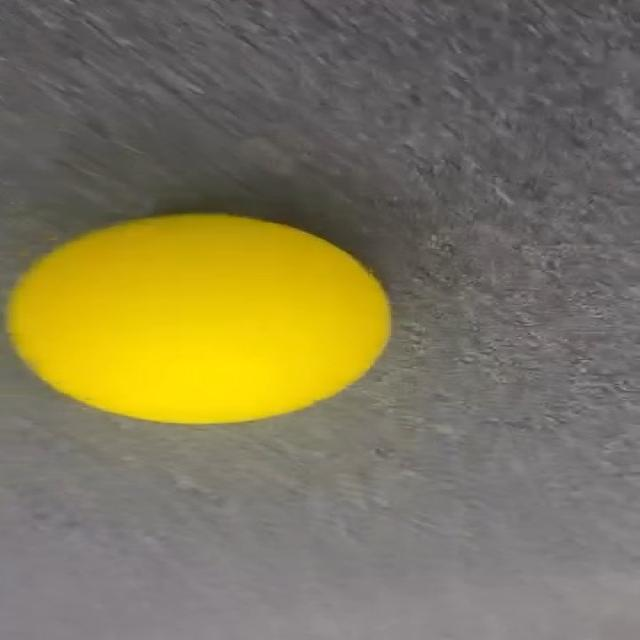Fuels: (0, 212, 391, 425)
